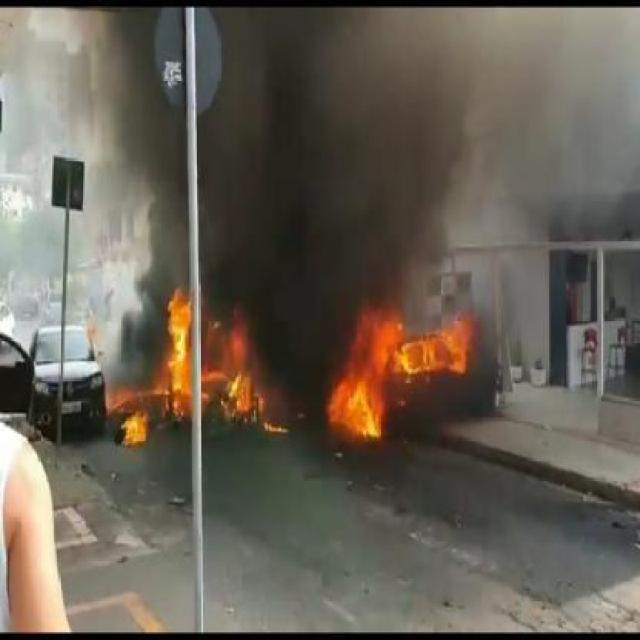Fire: (330, 306, 467, 440), (165, 288, 190, 418), (220, 365, 262, 418), (217, 300, 252, 360), (119, 410, 150, 450), (262, 418, 288, 436)
